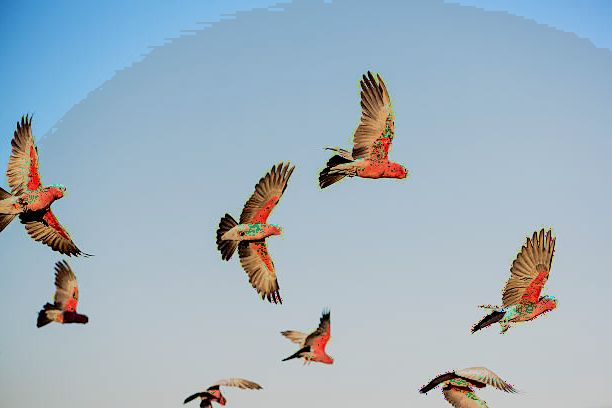Bird: (0, 110, 93, 260), (215, 159, 295, 306), (315, 66, 409, 189), (468, 225, 558, 336), (414, 365, 520, 405), (36, 257, 90, 330), (276, 308, 335, 369), (181, 375, 264, 405)
